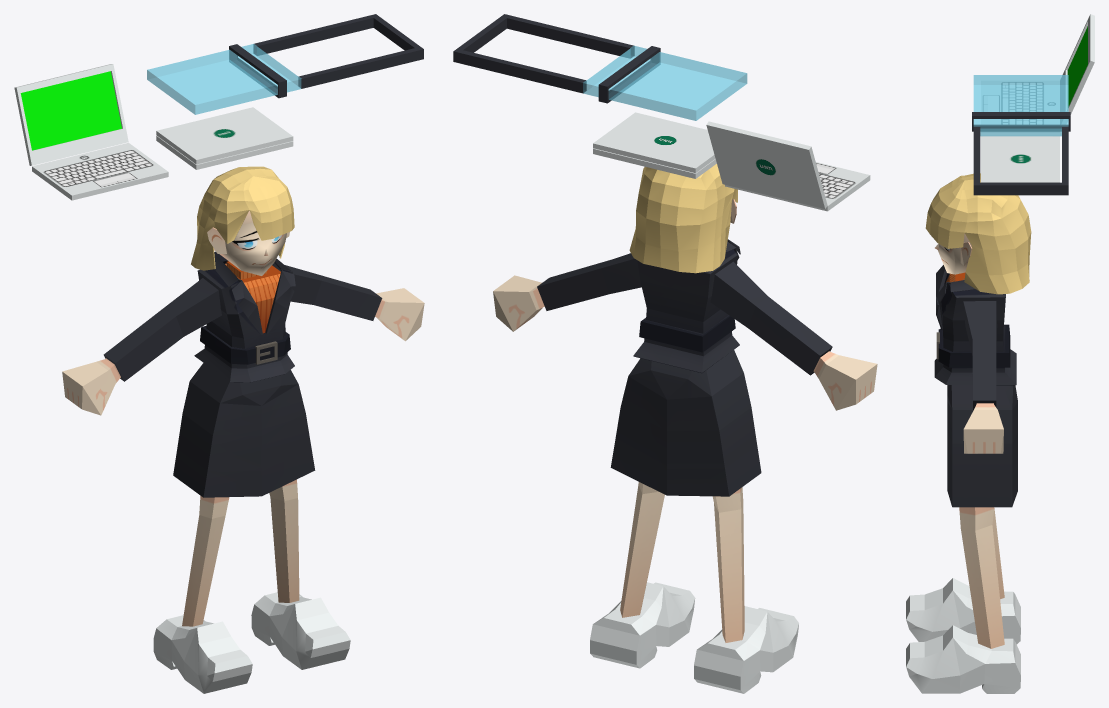
The model's file is Ashley Face Shadow Fix.glb.
The picture shows the model from 3 angles, left to right: view 1: azimuth 30°, elevation 25°; view 2: azimuth 150°, elevation 25°; view 3: azimuth 270°, elevation 25°; orthographic projection. The views are drawn at different scales.
Visible parts, largest first — view 1: Body, cover, Head, laptop screen.001, laptop.001, laptop screen, laptop; view 2: Body, cover, Head, laptop screen.001, laptop screen, laptop.001, laptop; view 3: Body, Head, cover, laptop screen, laptop.001, laptop screen.001.
Part boxes in pixels (bbox=[...]): Body: bbox=[62, 251, 424, 693]; cover: bbox=[147, 14, 423, 114]; Head: bbox=[191, 166, 294, 275]; laptop screen.001: bbox=[14, 64, 128, 165]; laptop.001: bbox=[32, 142, 168, 200]; laptop screen: bbox=[156, 107, 293, 164]; laptop: bbox=[156, 135, 293, 169]; Body: bbox=[493, 239, 877, 693]; cover: bbox=[453, 14, 747, 120]; Head: bbox=[629, 164, 737, 273]; laptop screen.001: bbox=[706, 121, 827, 208]; laptop screen: bbox=[593, 112, 715, 172]; laptop.001: bbox=[725, 162, 870, 211]; laptop: bbox=[593, 148, 716, 178]; Body: bbox=[906, 265, 1020, 693]; Head: bbox=[925, 173, 1031, 294]; cover: bbox=[972, 75, 1070, 195]; laptop screen: bbox=[981, 136, 1059, 182]; laptop.001: bbox=[981, 81, 1059, 124]; laptop screen.001: bbox=[1060, 14, 1094, 124].
Size of the model in its own units: 1.3 by 2.03 by 0.6176.
11 materials, 11 textured.
